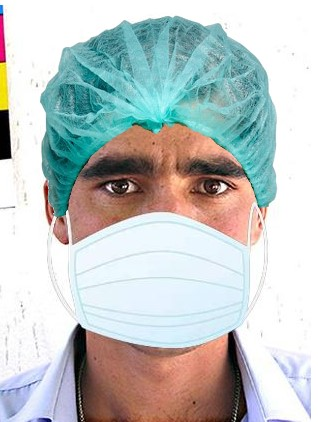with_mask_and_cap: (44, 17, 276, 352)
